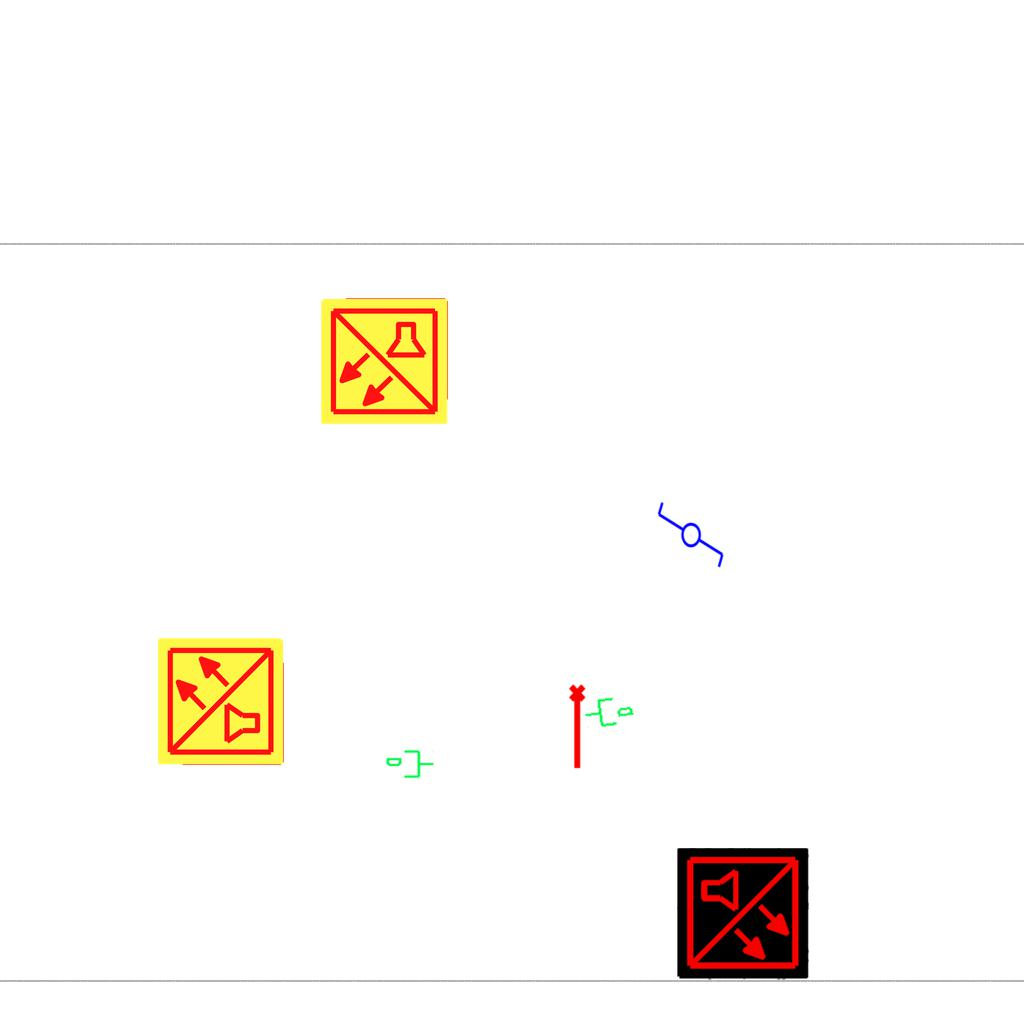ASR_Ansaugoeffnung: (567, 683, 590, 771)
Datenanschluss_einfach: (581, 690, 637, 732), (385, 748, 435, 782)
OKW_Multisensormelder_(Kombination_optischer_Rauch-Kahlenmonoxid_Waerme-Melder): (318, 295, 450, 427), (677, 848, 809, 980), (155, 635, 287, 767)
Wechselschalter: (654, 500, 726, 578)
